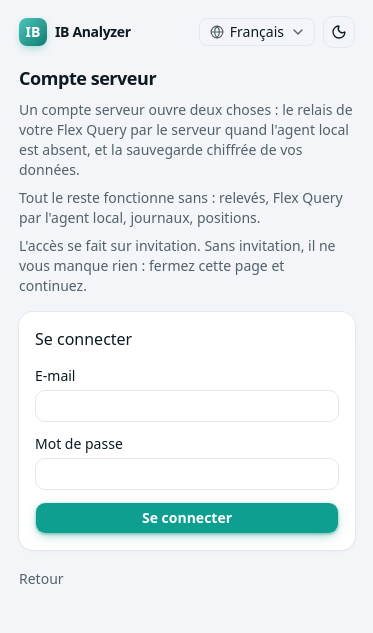
LoginPage › says the server is unreachable rather than blaming the credentials
The width and height of the screenshot is (373, 633).
Step 1. Type "a@example.com" into the field labelled "E-mail" → (187, 406), box 35,390 -> 339,422
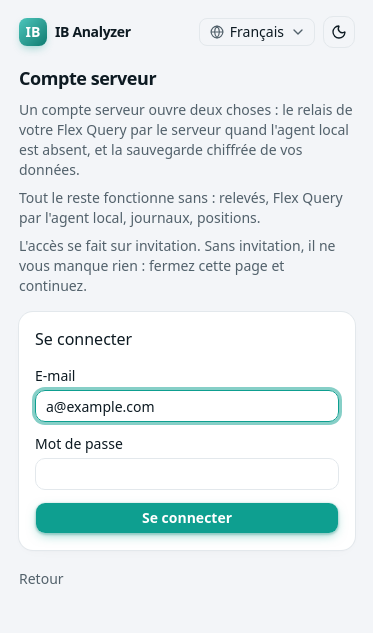
Step 2. Type "whatever" into the password field labelled "Mot de passe" → (187, 474), box 35,458 -> 339,490
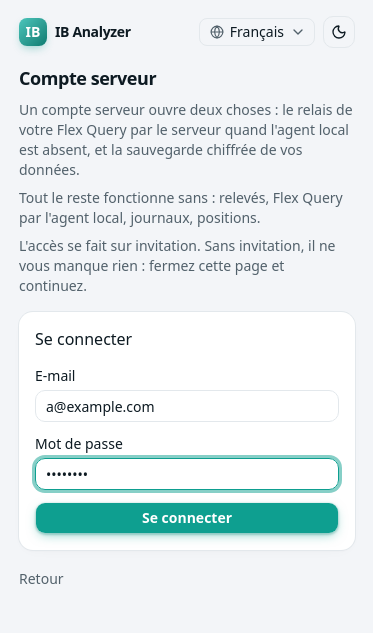
Step 3. Click the button "Se connecter" → (187, 518), box 35,502 -> 339,534
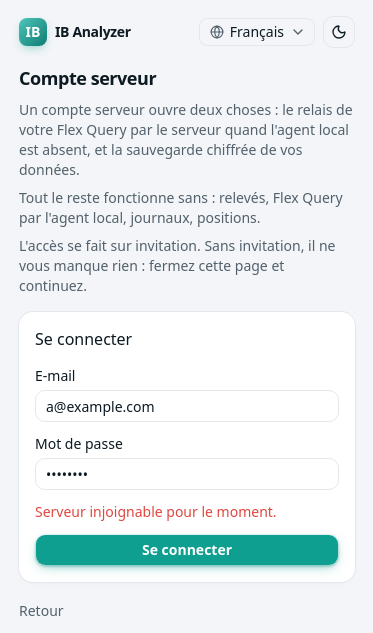
Check: the message reads "Serveur injoignable pour le moment.", box 35,502 -> 277,521
